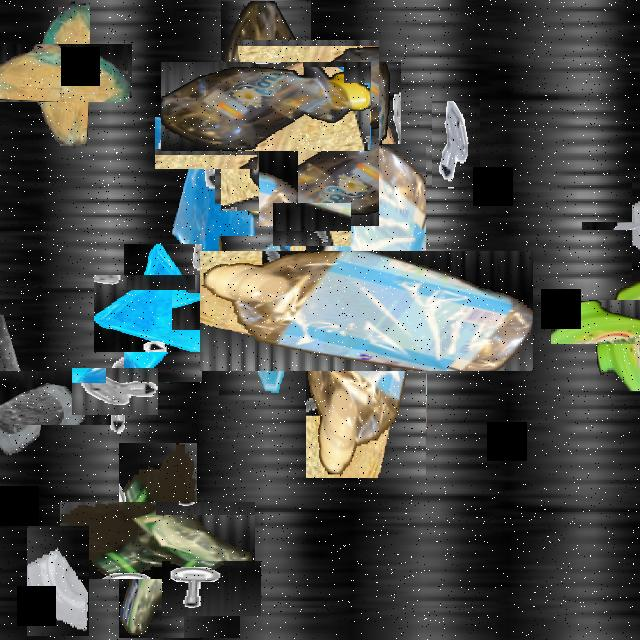glass: (219, 236, 311, 400), (171, 135, 259, 292), (109, 259, 217, 367), (0, 342, 83, 453), (27, 526, 89, 636), (606, 196, 640, 255)
metal: (166, 100, 246, 181), (173, 550, 251, 627), (82, 358, 148, 424), (432, 101, 480, 187), (282, 193, 342, 254), (180, 285, 232, 337)
plastic: (252, 198, 480, 424), (191, 32, 341, 182), (90, 472, 226, 609), (573, 277, 640, 366)
wood: (226, 52, 390, 215), (11, 23, 111, 123)
